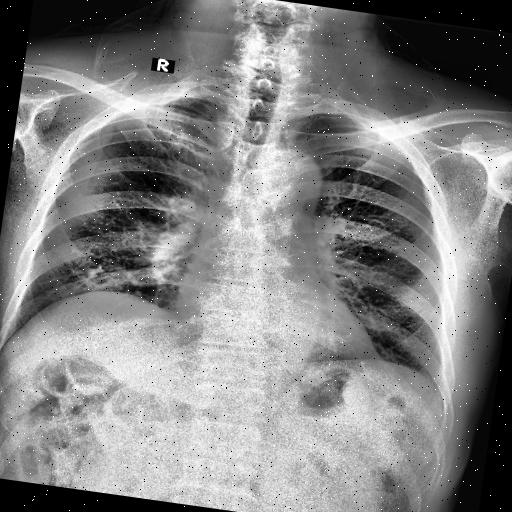0- Aortic enlargement: (240, 140, 328, 222), (248, 140, 327, 222), (256, 144, 326, 208)
11- Pleural thickening: (141, 88, 183, 110), (146, 90, 186, 110), (332, 108, 371, 128)
7- Lung Opacity: (158, 110, 202, 160)
